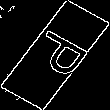P_SE: (18, 26, 92, 84)
